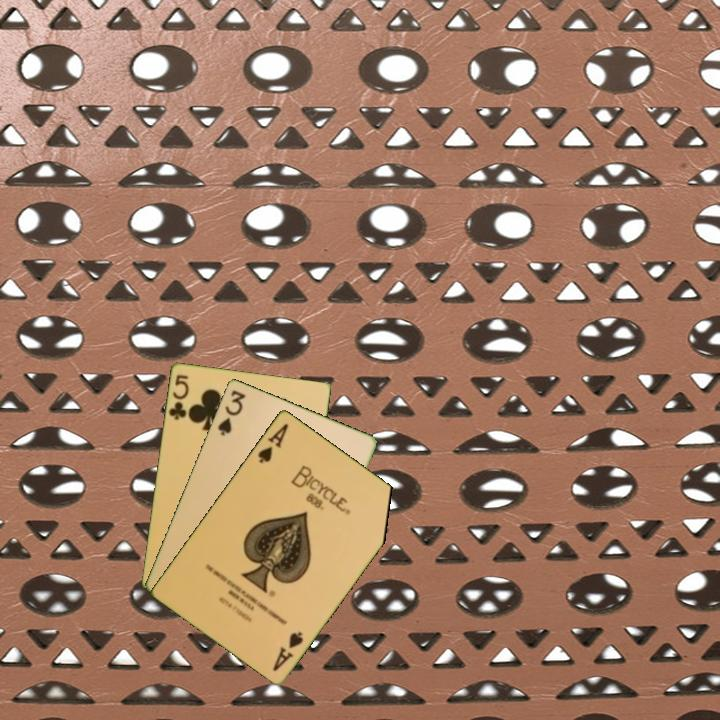3s: (214, 386, 248, 438)
5c: (165, 371, 191, 423)
As: (269, 627, 306, 674), (254, 420, 291, 466)
